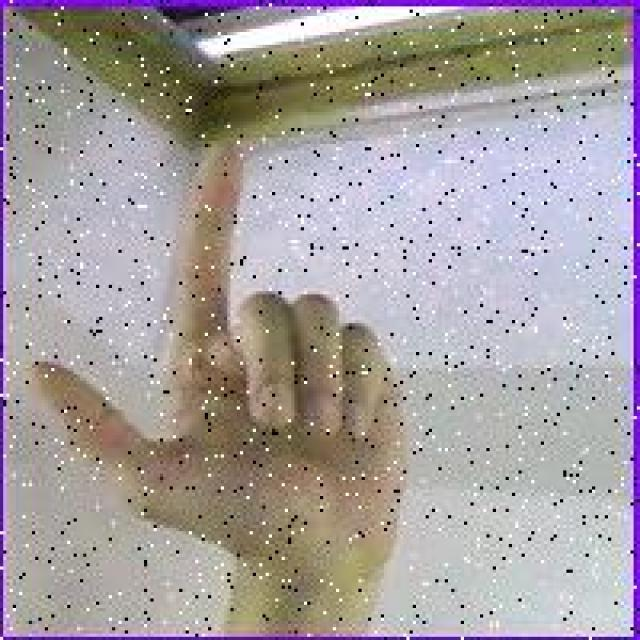L: (14, 134, 405, 596)
